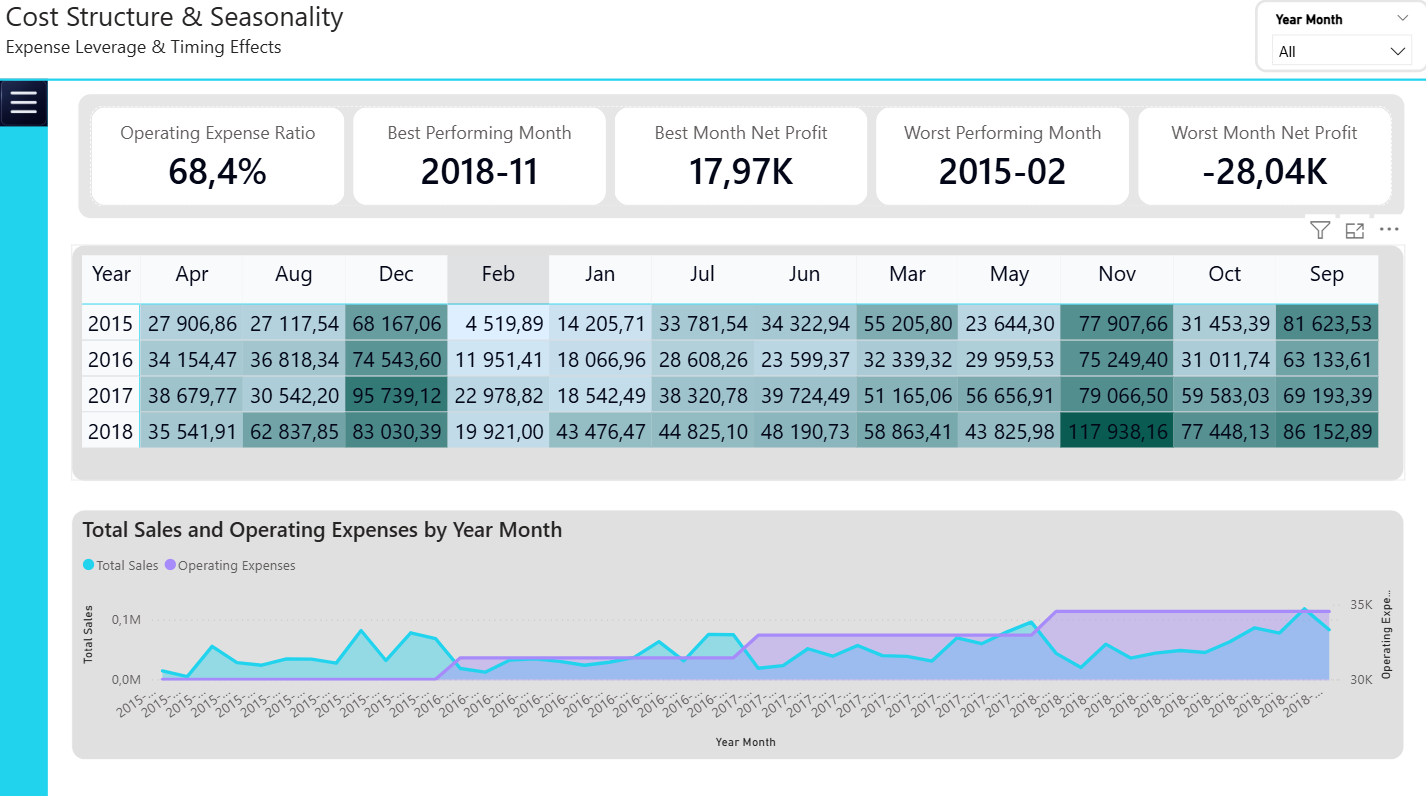

The dashboard page shown, as its layout file describes it:
{"tool":"powerbi","page":{"name":"Costs & Seasonality","canvas":[1280,720],"ordinal":2},"visuals":[{"type":"shape","title":"Small Navigator bar","box":[0,78.2,42.2,641.8],"z":0,"group":"g1"},{"type":"cardVisual","fields":{"Data":["MeasuresTables.Operating Expense Ratio","MeasuresTables.Best Performing Month","MeasuresTables.Best Month Net Profit","MeasuresTables.Worst Performing Month","MeasuresTables.Worst Month Net Profit"]},"box":[63.8,84.2,1194.4,123.3],"z":0},{"type":"image","title":"Nav Menu","box":[0,75.8,42.2,45.8],"z":1000,"group":"g1"},{"type":"pivotTable","fields":{"Values":["MeasuresTables.Total Sales"],"Rows":["DimDate.Year"],"Columns":["DimDate.Month"]},"box":[63.8,224.3,1187.3,211],"z":1000},{"type":"areaChart","fields":{"Category":["DimDate.Year Month"],"Y":["MeasuresTables.Total Sales"],"Y2":["MeasuresTables.Operating Expenses"]},"box":[63.8,461.1,1187.3,223.4],"z":2000},{"type":"textbox","box":[0,0,1380,69.7],"z":3000},{"type":"slicer","fields":{"Values":["DimDate.Year Month"]},"box":[1118.1,6.2,155.2,64.7],"z":4000},{"type":"group","id":"g1","title":"Closed Menu","box":[0,75.8,42.2,644.2],"z":6000},{"type":"shape","box":[0,71,1380,13.6],"z":7000}]}

Visuals, with their boxes in screenshot pixels (x1, y1, x2, y2), scaled from the page's 1280x720 canvas onto the 1426x796 screenshot:
"Small Navigator bar" shape: locate(0, 86, 47, 795)
cardVisual - MeasuresTables.Operating Expense Ratio x MeasuresTables.Best Performing Month: locate(71, 93, 1402, 229)
"Nav Menu" image: locate(0, 84, 47, 134)
pivotTable - MeasuresTables.Total Sales x DimDate.Year: locate(71, 248, 1394, 481)
areaChart - DimDate.Year Month x MeasuresTables.Total Sales: locate(71, 510, 1394, 757)
textbox: locate(0, 0, 1425, 77)
slicer - DimDate.Year Month: locate(1246, 7, 1419, 78)
"Closed Menu" group: locate(0, 84, 47, 795)
shape: locate(0, 78, 1425, 94)
